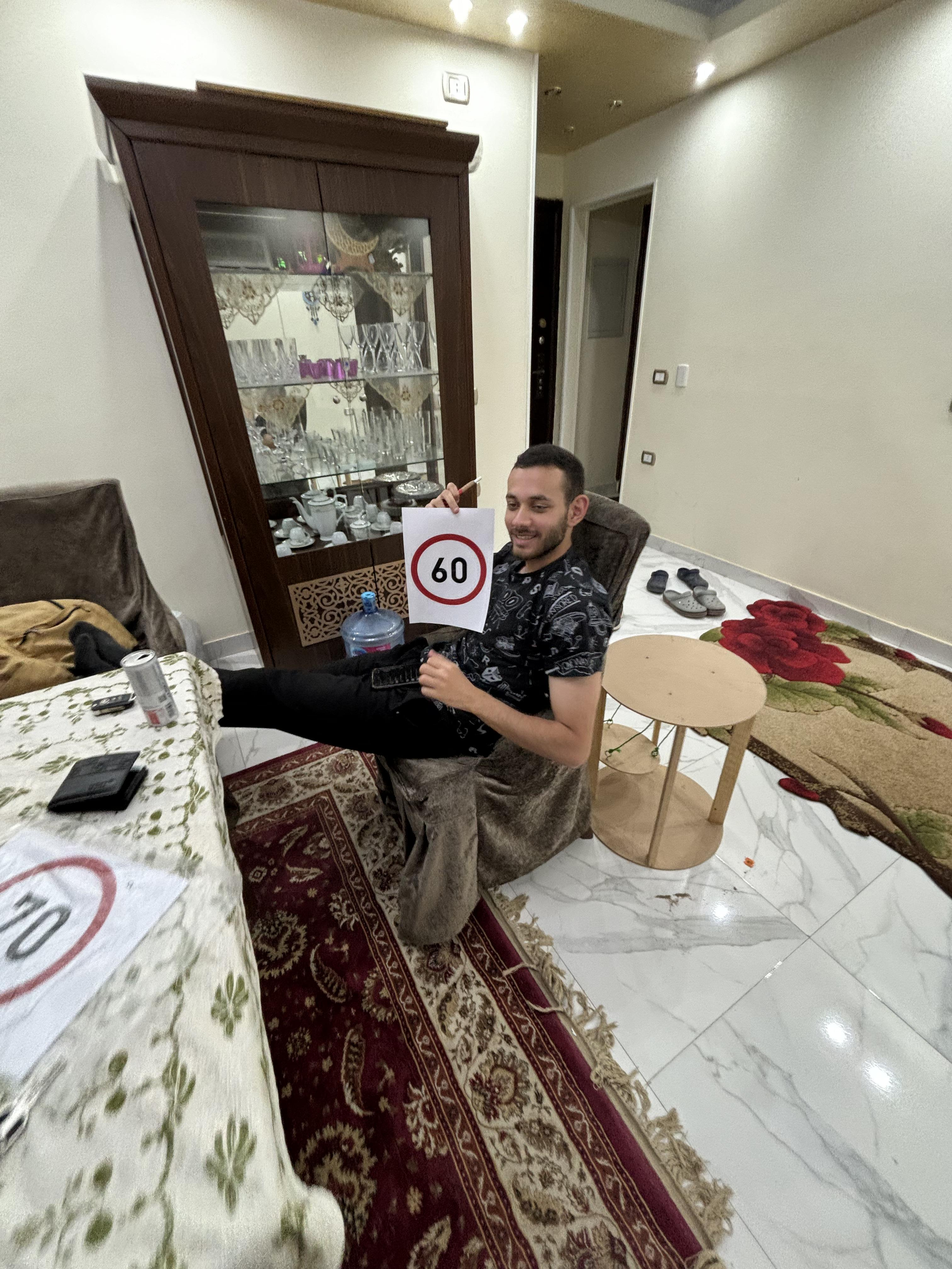60-Speed: (412, 529, 489, 607)
